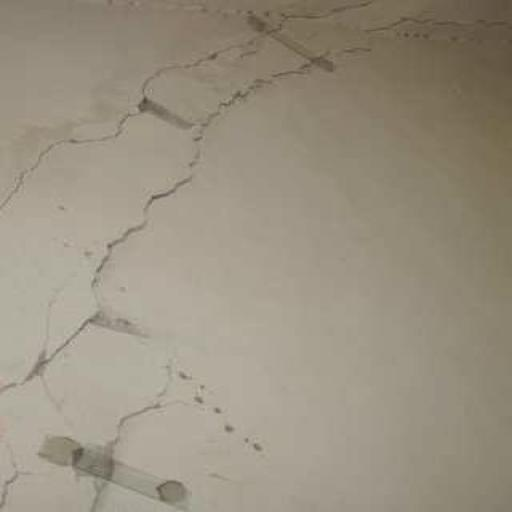spalling: (8, 41, 369, 398), (0, 14, 296, 214)
